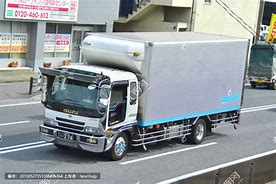bigtruck: (40, 29, 243, 153)
